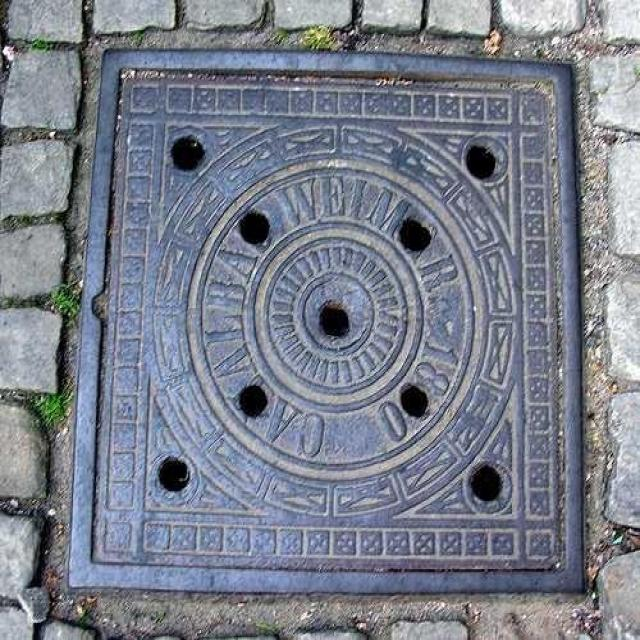manhole: (70, 53, 582, 592)
